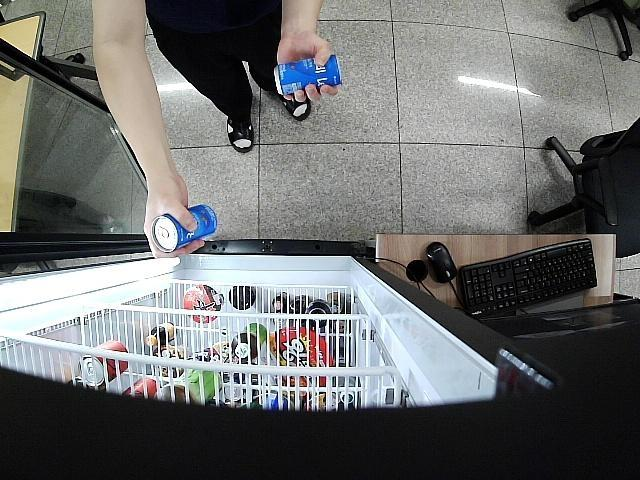15_letsbe: (274, 52, 344, 97), (152, 204, 217, 252)
